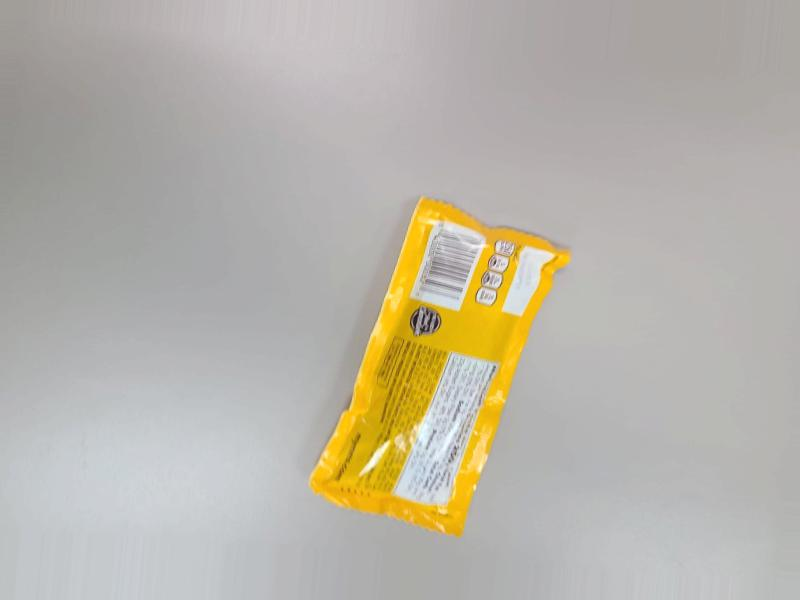m&m: (291, 187, 538, 544)
